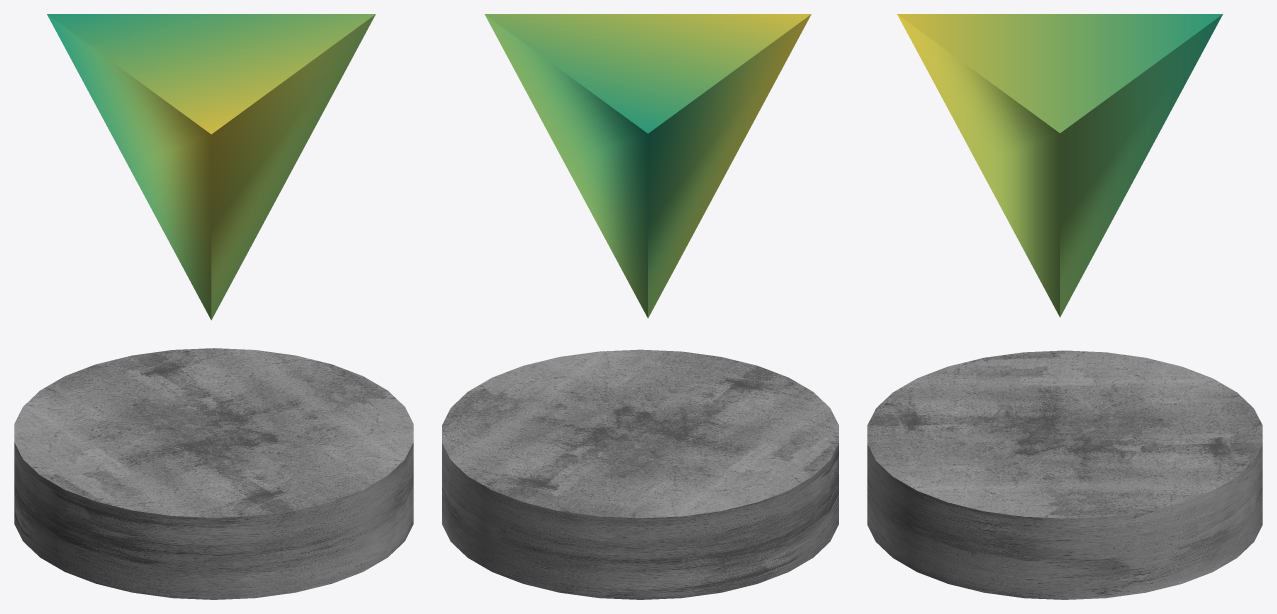
The model's file is pyr-green.glb.
The picture shows the model from 3 angles, left to right: view 1: azimuth 30°, elevation 25°; view 2: azimuth 150°, elevation 25°; view 3: azimuth 270°, elevation 25°; orthographic projection.
Parts seen in each view (by area): view 1: 007_Cylinder_-_baked_12, 008_Cone_3; view 2: 007_Cylinder_-_baked_12, 008_Cone_3; view 3: 007_Cylinder_-_baked_12, 008_Cone_3.
Boxes of the visible parts, bbox=[...] form: 007_Cylinder_-_baked_12: bbox=[14, 348, 413, 599]; 008_Cone_3: bbox=[47, 14, 375, 320]; 007_Cylinder_-_baked_12: bbox=[442, 349, 838, 599]; 008_Cone_3: bbox=[484, 14, 811, 318]; 007_Cylinder_-_baked_12: bbox=[867, 350, 1262, 599]; 008_Cone_3: bbox=[897, 14, 1222, 317].
Size of the model in its own units: 18.41 by 23.47 by 18.31.
2 materials, 2 textured.
